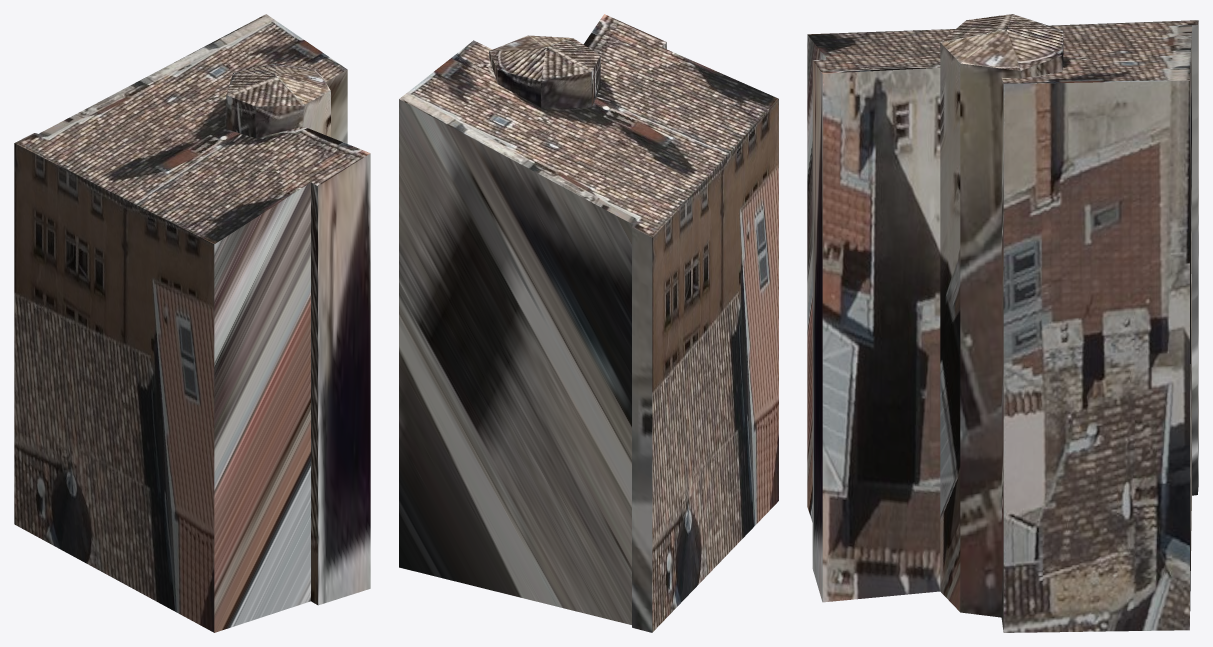
3 views of the same model, side by side, from view 1: azimuth 30°, elevation 25°; view 2: azimuth 150°, elevation 25°; view 3: azimuth 270°, elevation 25° (orthographic). The views are drawn at different scales.
Visible parts, largest first — view 1: Z_UP; view 2: Z_UP; view 3: Z_UP.
Boxes of the visible parts, x1,y1,x2,y2 form: Z_UP: (14,14,370,632); Z_UP: (399,14,778,632); Z_UP: (807,14,1198,632).
Size of the model in its own units: 11.89 by 20.79 by 13.13.
Materials: 2 (1 with a texture image).
